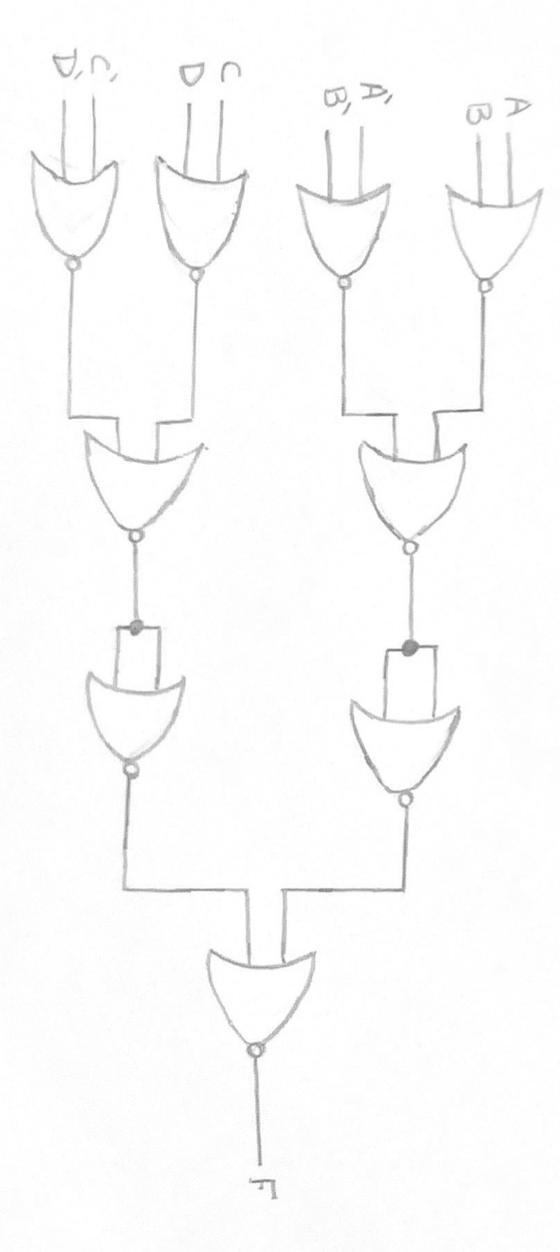NOR: (183, 935, 346, 1064), (333, 685, 474, 834), (347, 432, 495, 572), (75, 435, 232, 551), (65, 668, 205, 797), (436, 170, 552, 312), (23, 138, 125, 286), (289, 165, 400, 301), (144, 152, 253, 285)
